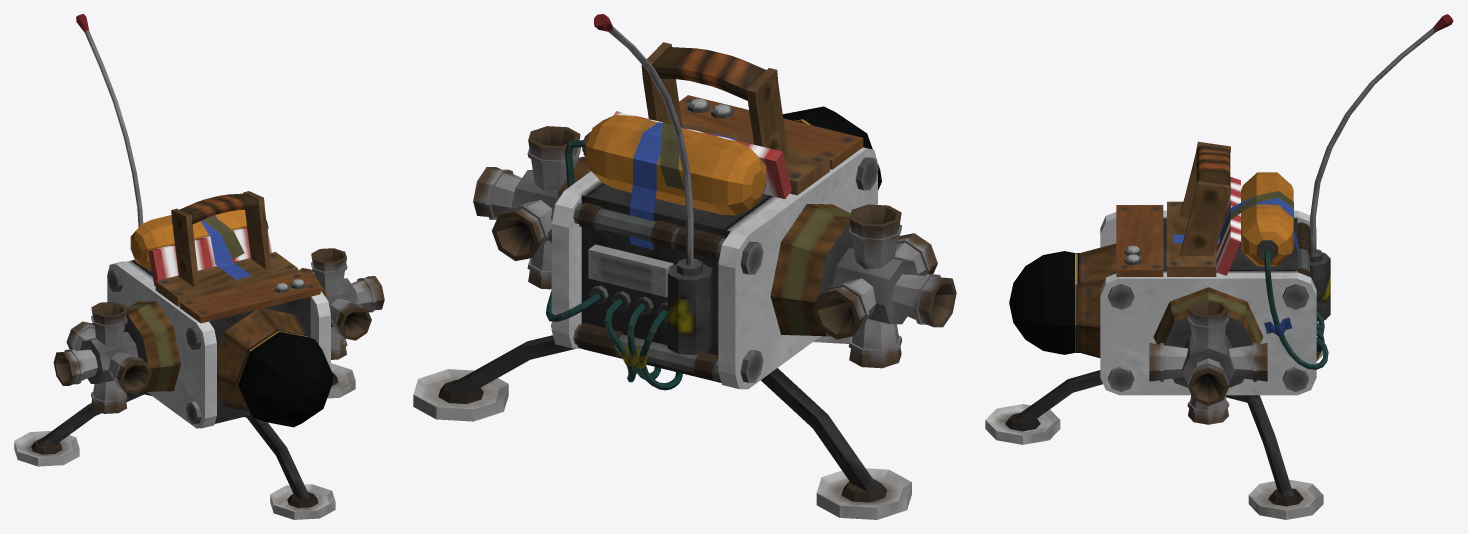
Rendered from OuterWildsModelShip.fbx.
3 renders of one model, left to right at view 1: azimuth 30°, elevation 25°; view 2: azimuth 150°, elevation 25°; view 3: azimuth 270°, elevation 25°, orthographic. The views are drawn at different scales.
Visible parts, largest first — view 1: ShipFull, CockpitGlass; view 2: ShipFull, CockpitGlass; view 3: ShipFull, CockpitGlass.
Part boxes in pixels (bbox=[...]): ShipFull: bbox=[14, 14, 384, 519]; CockpitGlass: bbox=[238, 331, 333, 427]; ShipFull: bbox=[413, 14, 956, 519]; CockpitGlass: bbox=[782, 106, 881, 190]; ShipFull: bbox=[985, 14, 1453, 519]; CockpitGlass: bbox=[1009, 251, 1074, 354].
Bounding box in the file's own units: 383 × 395 × 419.
